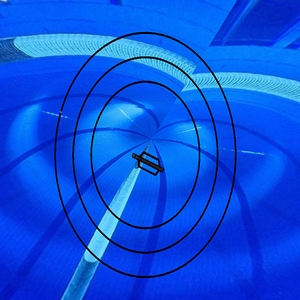circle: (53, 31, 240, 279)
submarine: (131, 149, 168, 180)
